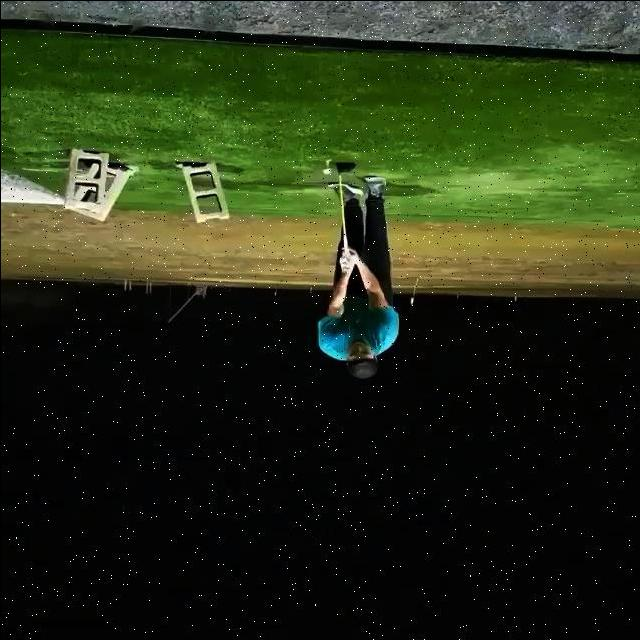ClubHandle: (333, 162, 354, 247)
ClubHead: (334, 162, 354, 172)
GolfBall: (321, 167, 331, 174)
